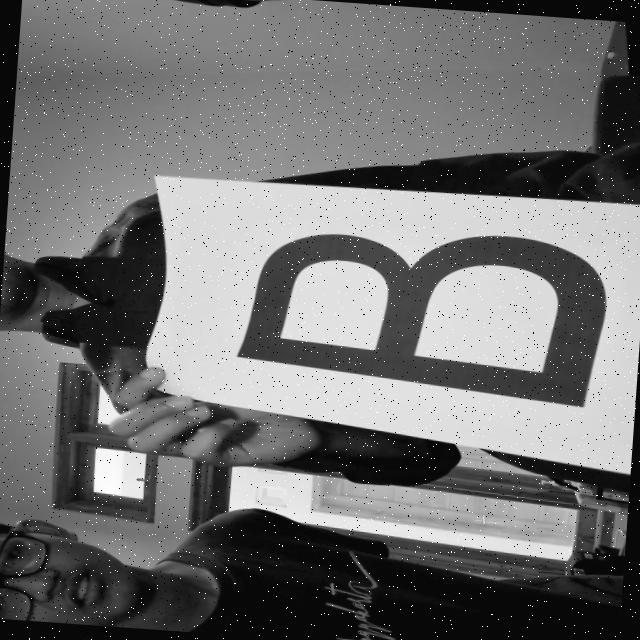b: (213, 202, 629, 416)
